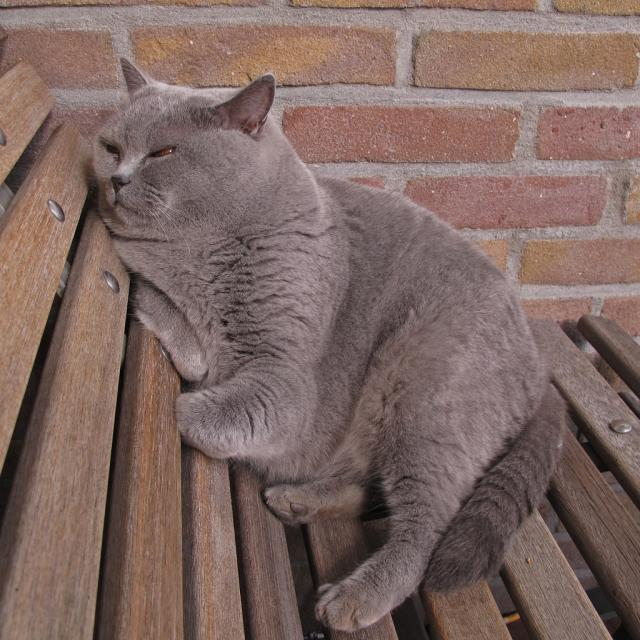Cat: (72, 56, 568, 633)
